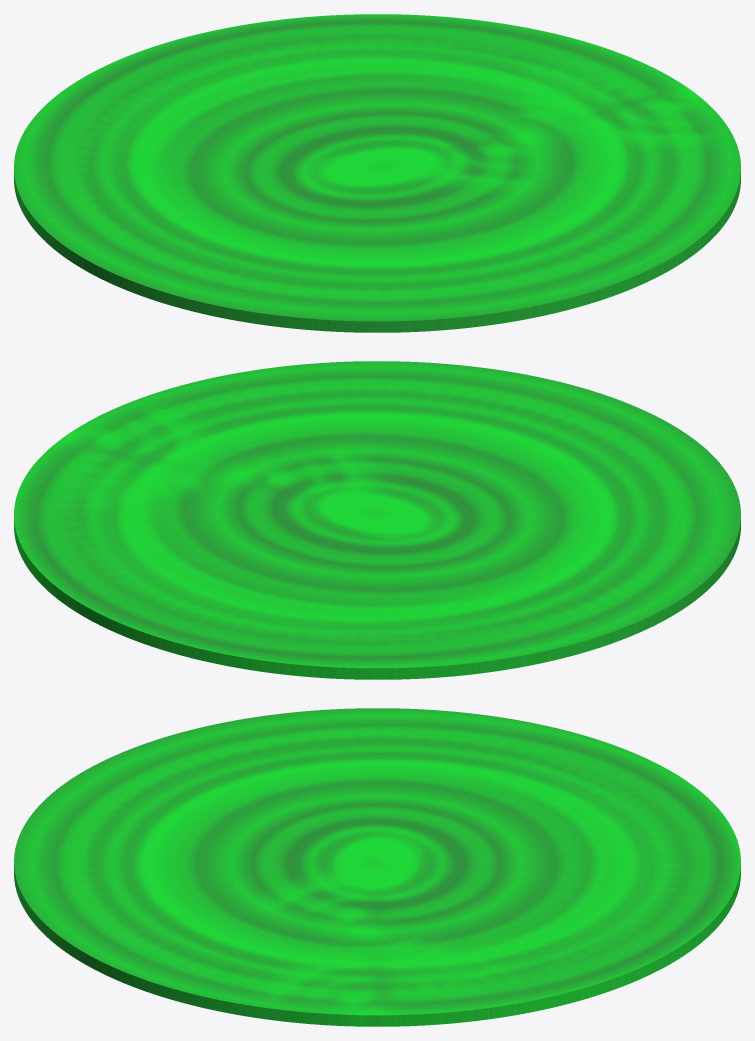
File: líquido caldero.fbx
3 renders of one model, top to bottom at view 1: azimuth 30°, elevation 25°; view 2: azimuth 150°, elevation 25°; view 3: azimuth 270°, elevation 25°, orthographic.
Parts seen in each view (by area): view 1: liquido caldero; view 2: liquido caldero; view 3: liquido caldero.
Part boxes in pixels (x1,y1,x2,y2): liquido caldero: [14, 14, 740, 332]; liquido caldero: [14, 361, 740, 679]; liquido caldero: [14, 708, 740, 1026].
Size of the model in its own units: 101 by 1.75 by 101.
